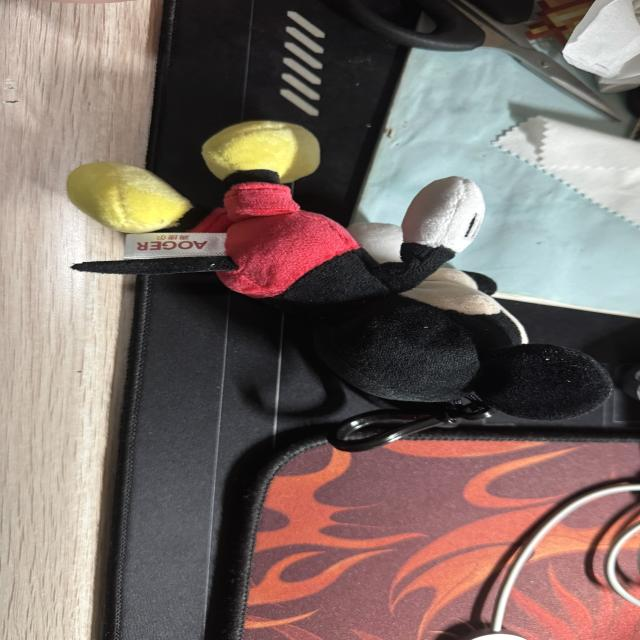mickey: (193, 122, 612, 420)
tissue: (494, 117, 639, 225), (563, 0, 639, 92)
